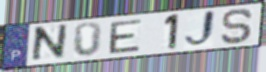0: (72, 21, 103, 59)
1: (162, 13, 182, 51)
E: (108, 18, 144, 55)
J: (183, 8, 217, 50)
N: (29, 22, 70, 65)
S: (219, 7, 255, 45)
